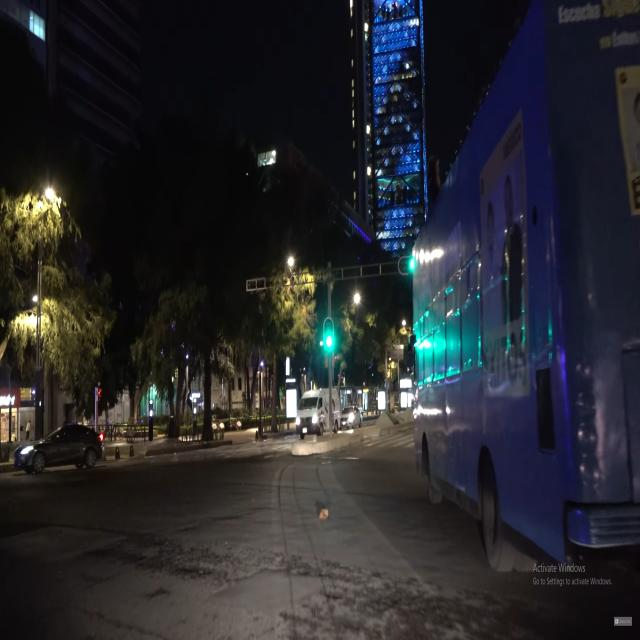headlights: (291, 411, 323, 434)
